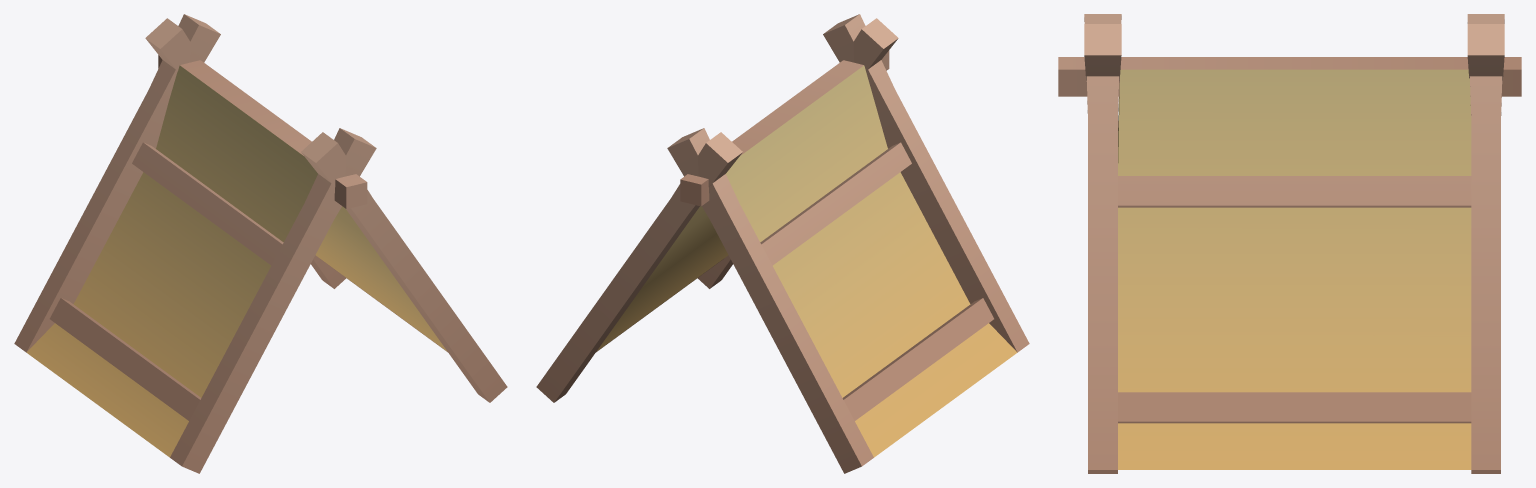
The model's file is tent.glb.
The picture shows the model from 3 angles, left to right: view 1: azimuth 30°, elevation 25°; view 2: azimuth 150°, elevation 25°; view 3: azimuth 270°, elevation 25°; orthographic projection. The views are drawn at different scales.
Parts seen in each view (by area): view 1: tent-canvas; view 2: tent-canvas; view 3: tent-canvas.
Part boxes in pixels (box(x1,y1,x2,y2)): tent-canvas: box(14, 14, 507, 473); tent-canvas: box(536, 14, 1029, 473); tent-canvas: box(1058, 14, 1521, 473).
Bounding box in the file's own units: 2.62 × 2.3 × 2.63.
